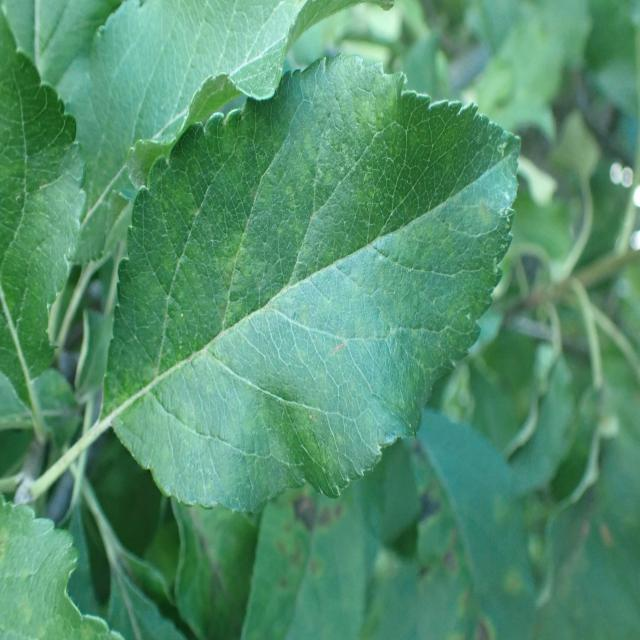scab: (132, 119, 493, 465)
